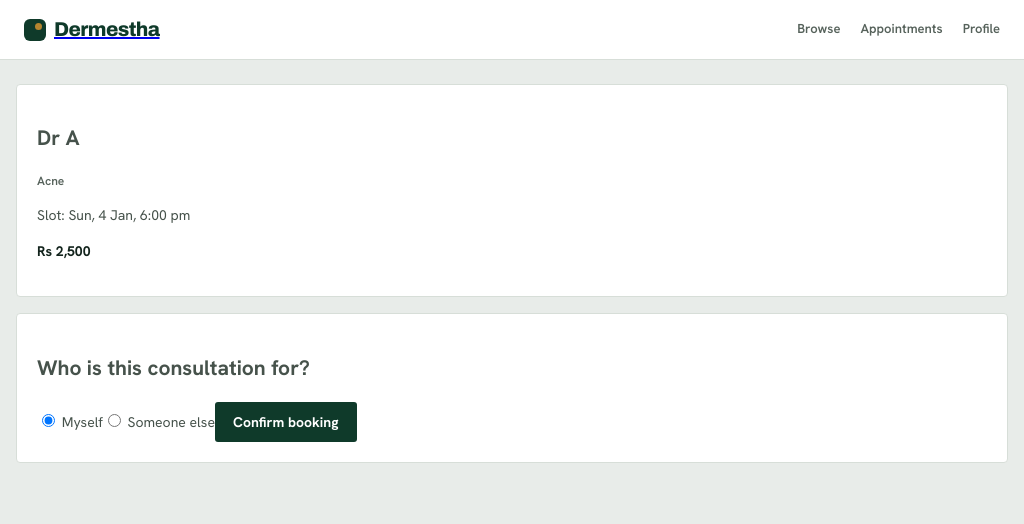
Test: P-06 Booking › requires subject fields when booking for someone else
Expected: the heading "Dr A" is shown, [37,124,80,151]
Click the radio button labelled "Someone else" at (114, 420), box [108,414,121,427]
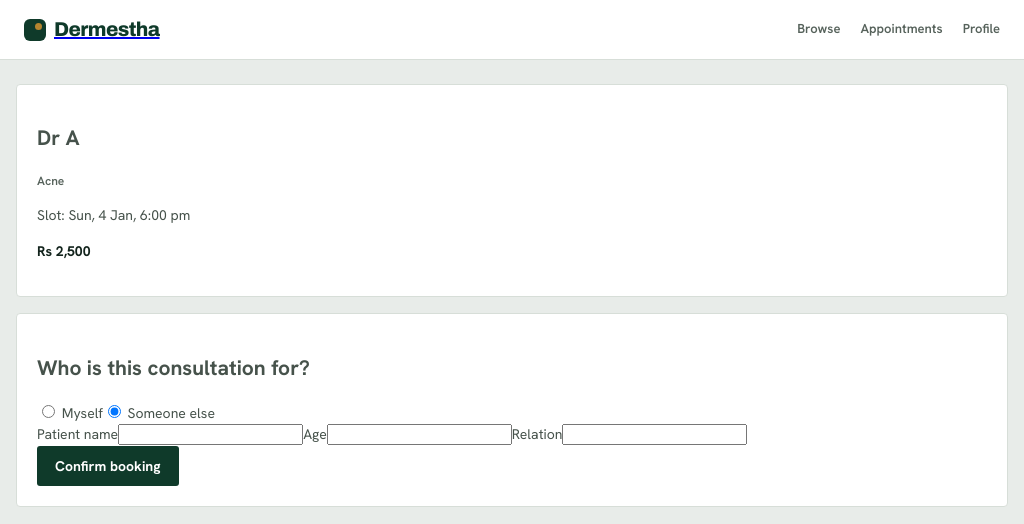
Expected: the field labelled "Patient name" is shown, [118,424,303,445]
